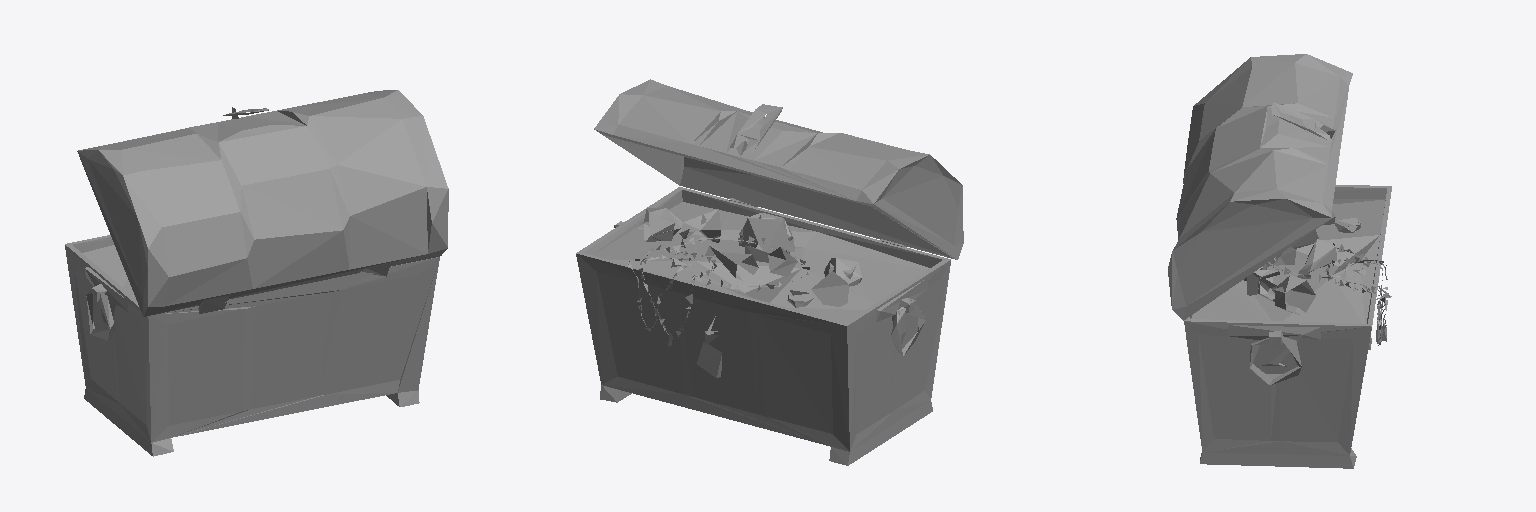
File: tesouro2.obj
The picture shows the model from 3 angles: view 1: azimuth 30°, elevation 25°; view 2: azimuth 150°, elevation 25°; view 3: azimuth 270°, elevation 25°; orthographic projection.
Visible parts, largest first — view 1: treasure_chest; view 2: treasure_chest; view 3: treasure_chest.
Part boxes in pixels (x1,y1,x2,y2): treasure_chest: (65,90,448,456); treasure_chest: (576,79,963,465); treasure_chest: (1168,54,1391,468).
Size of the model in its own units: 3.61 by 3.34 by 2.29.